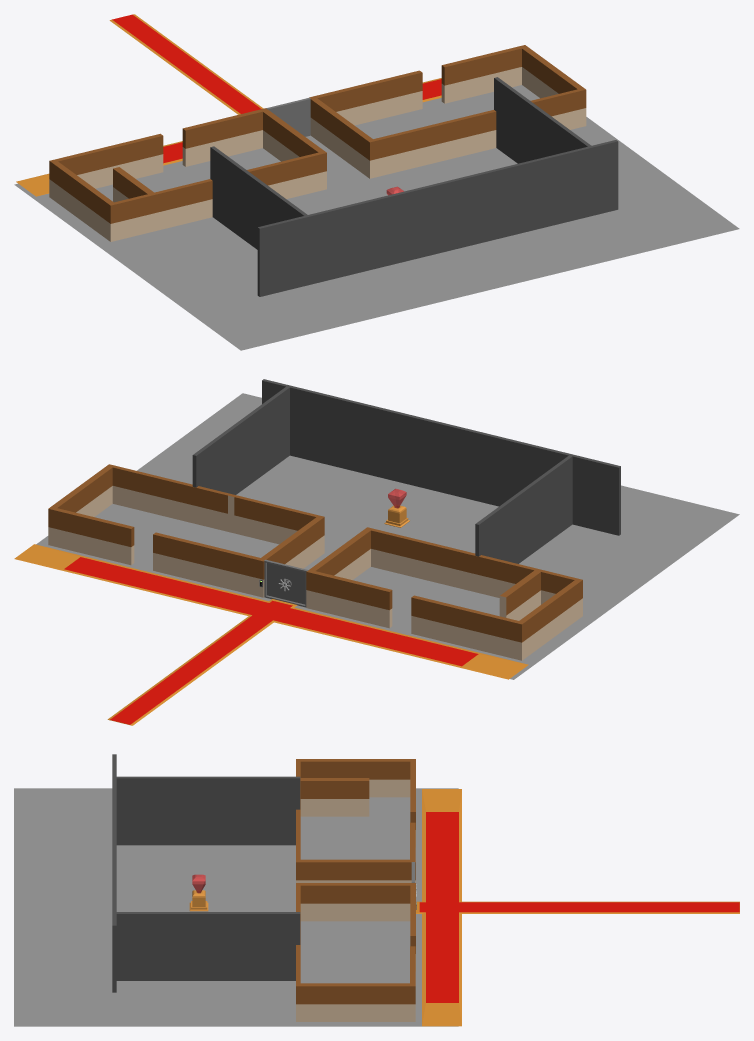
The model's file is Cinematic Diamond.fbx.
3 renders of one model, top to bottom at view 1: azimuth 30°, elevation 25°; view 2: azimuth 150°, elevation 25°; view 3: azimuth 270°, elevation 25°, orthographic. The views are drawn at different scales.
Parts seen in each view (by area): view 1: Ground.001, Cube.021, Cube.018, Cube.019, Plane.001, Cylinder.002; view 2: Ground.001, Cube.021, Cube.018, Cube.019, Plane.001, Cylinder.002, Cube.020; view 3: Ground.001, Cube.021, Plane.001, Cube.019, Cube.018, Cube.020.
Boxes of the visible parts, box(x1,y1,x2,y2) form: Ground.001: box(14, 85, 739, 350); Cube.021: box(210, 77, 618, 296); Cube.018: box(49, 108, 326, 241); Cube.019: box(309, 45, 586, 178); Plane.001: box(16, 14, 441, 196); Cylinder.002: box(266, 97, 310, 136); Ground.001: box(36, 393, 739, 679); Cube.021: box(192, 379, 620, 563); Cube.018: box(306, 527, 582, 660); Cube.019: box(48, 464, 324, 597); Plane.001: box(14, 544, 528, 725); Cylinder.002: box(264, 559, 308, 607); Cube.020: box(384, 488, 409, 527); Ground.001: box(14, 788, 458, 1026); Cube.021: box(112, 754, 300, 992); Plane.001: box(416, 789, 739, 1026); Cube.019: box(296, 883, 415, 1021); Cube.018: box(296, 759, 415, 882); Cube.020: box(189, 874, 208, 911).
Bounding box in the file's own units: 84.06 × 11.4 × 108.
